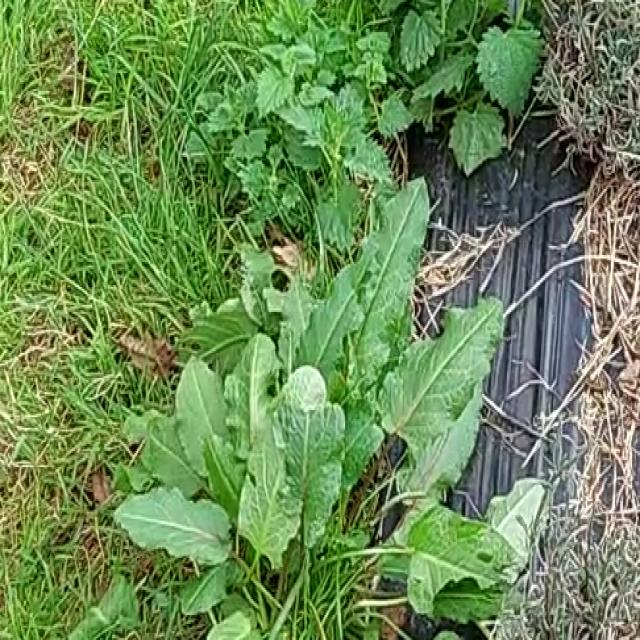organic waste: (105, 180, 523, 640)
